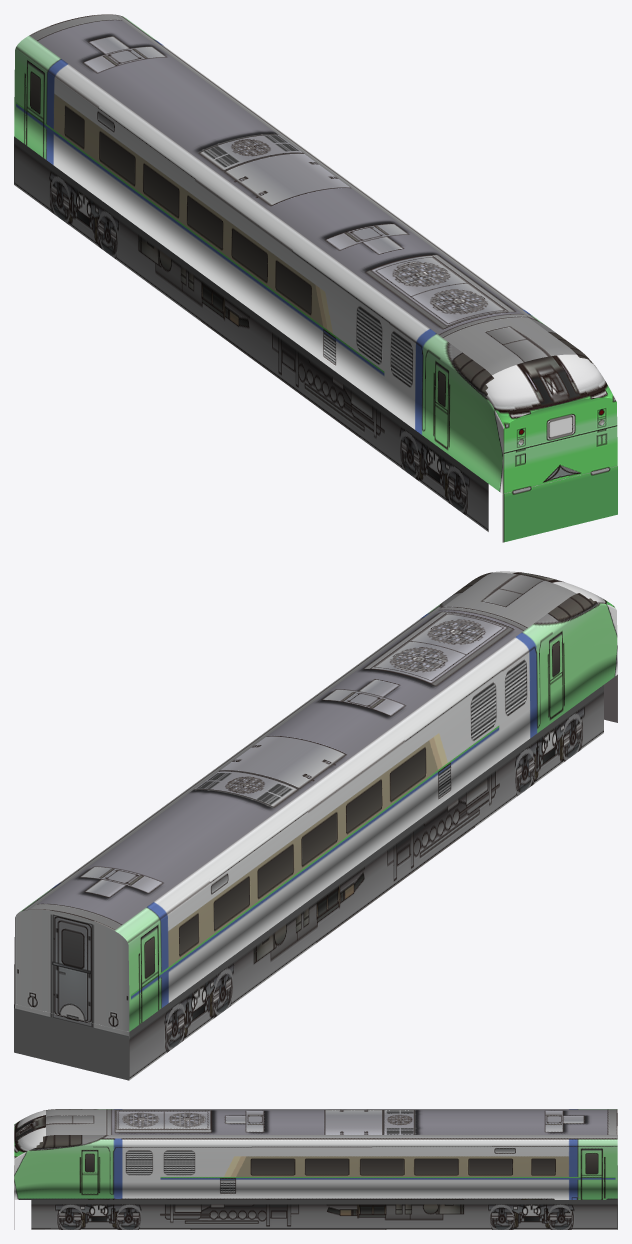
The model's file is car1.glb.
The picture shows the model from 3 angles, top to bottom: view 1: azimuth 30°, elevation 25°; view 2: azimuth 150°, elevation 25°; view 3: azimuth 270°, elevation 25°; orthographic projection. The views are drawn at different scales.
Visible parts, largest first — view 1: jr-hokkaido-kiha183-car1; view 2: jr-hokkaido-kiha183-car1; view 3: jr-hokkaido-kiha183-car1.
Boxes of the visible parts, bbox=[...] form: jr-hokkaido-kiha183-car1: bbox=[14, 14, 617, 542]; jr-hokkaido-kiha183-car1: bbox=[14, 571, 617, 1080]; jr-hokkaido-kiha183-car1: bbox=[14, 1109, 617, 1229].
Size of the model in its own units: 2.9 by 3.65 by 21.33.
9 materials, 8 textured.
